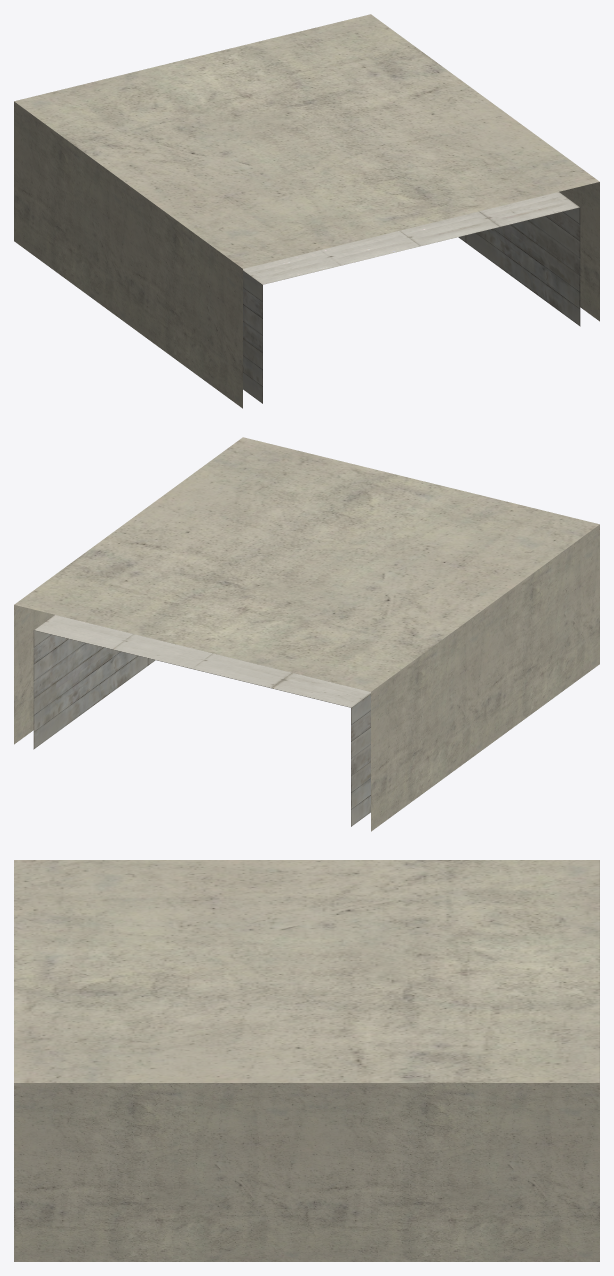
Rendered from GSDTunnel-2L.FBX.
The picture shows the model from 3 angles, top to bottom: view 1: azimuth 30°, elevation 25°; view 2: azimuth 150°, elevation 25°; view 3: azimuth 270°, elevation 25°; orthographic projection. The views are drawn at different scales.
Parts seen in each view (by area): view 1: GSDTunnel-2L; view 2: GSDTunnel-2L; view 3: GSDTunnel-2L.
Part boxes in pixels (<box>): GSDTunnel-2L: <box>14,14,599,408</box>; GSDTunnel-2L: <box>14,437,599,831</box>; GSDTunnel-2L: <box>14,860,599,1261</box>.
Bounding box in the file's own units: 18 × 6.74 × 20.
